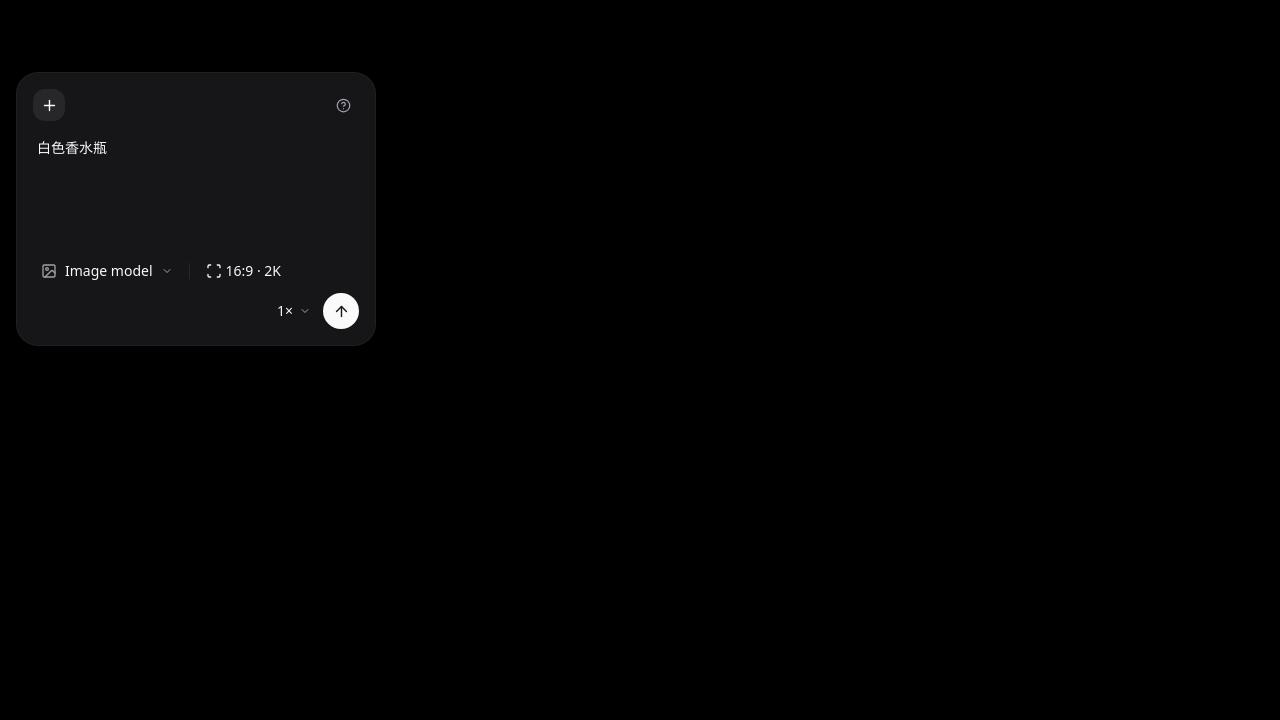
edits image specs in place, keeps option order stable, and restores focus without generating
Click the button named "生成规格" at (243, 271), box [198,253,289,289]
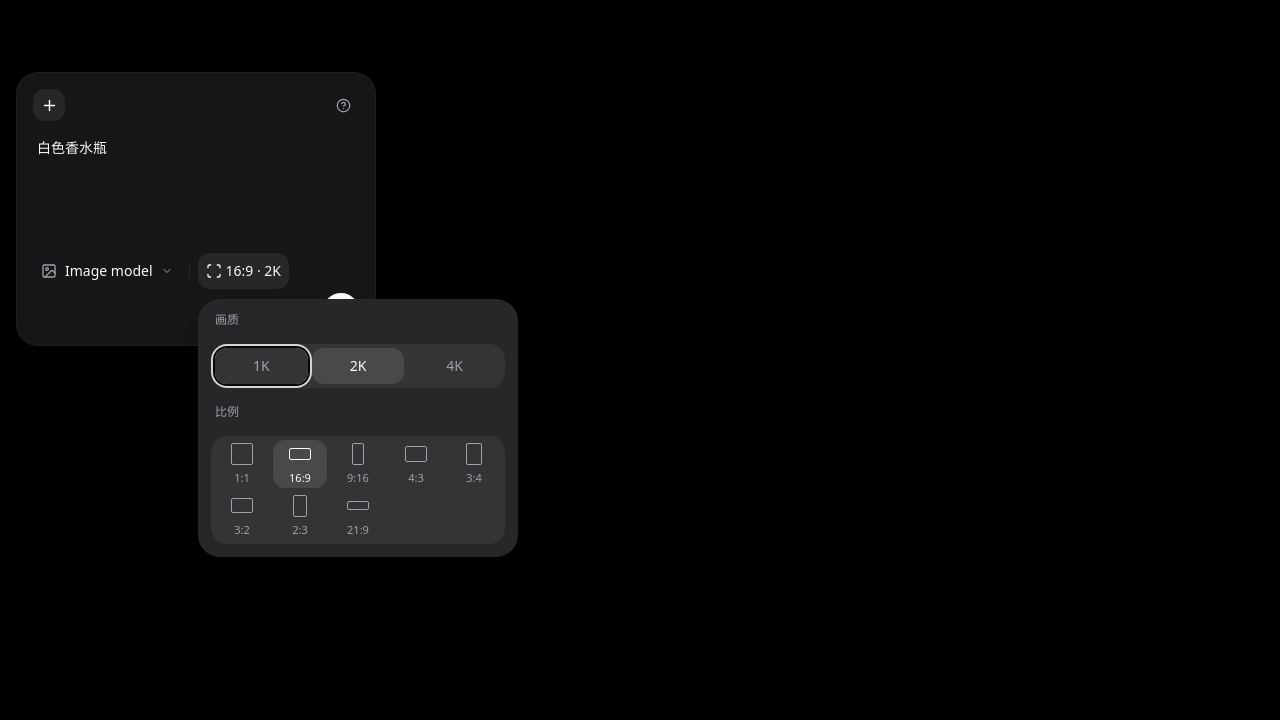
Click the button named "比例 9:16" at (358, 464), box [331,440,385,488]
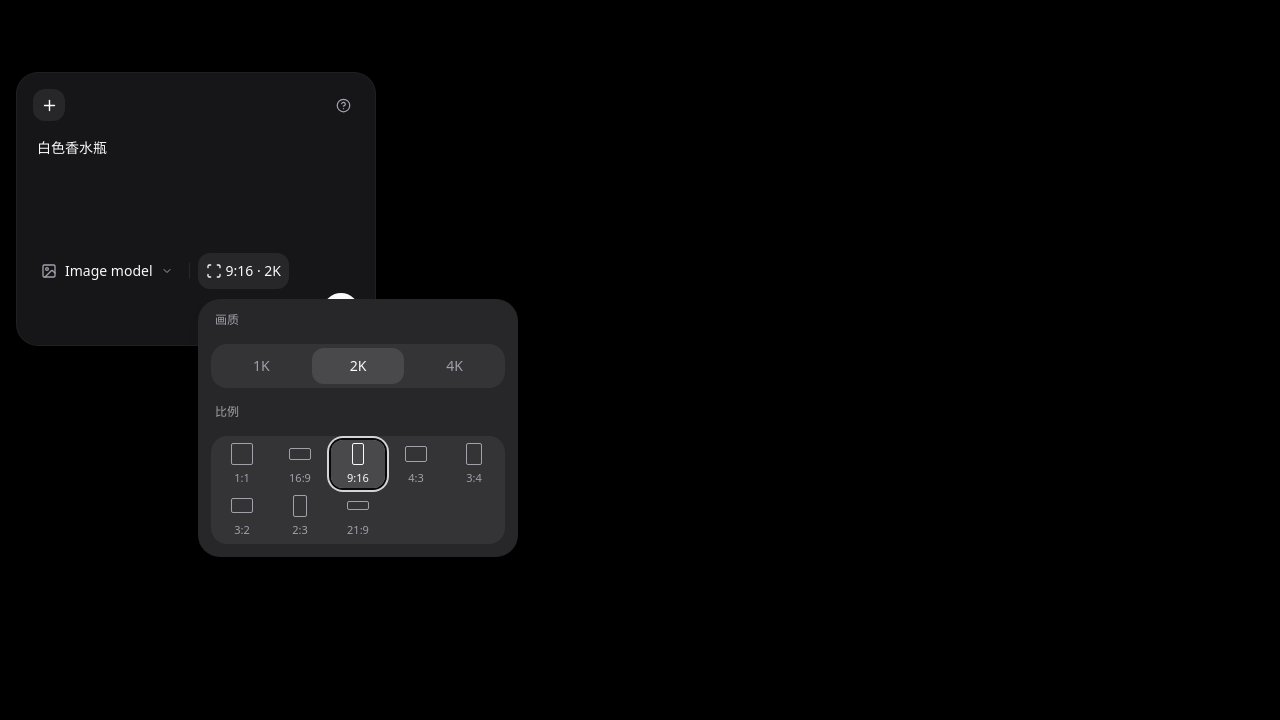
Click the button named "画质 4K" at (455, 366), box [408,348,501,384]
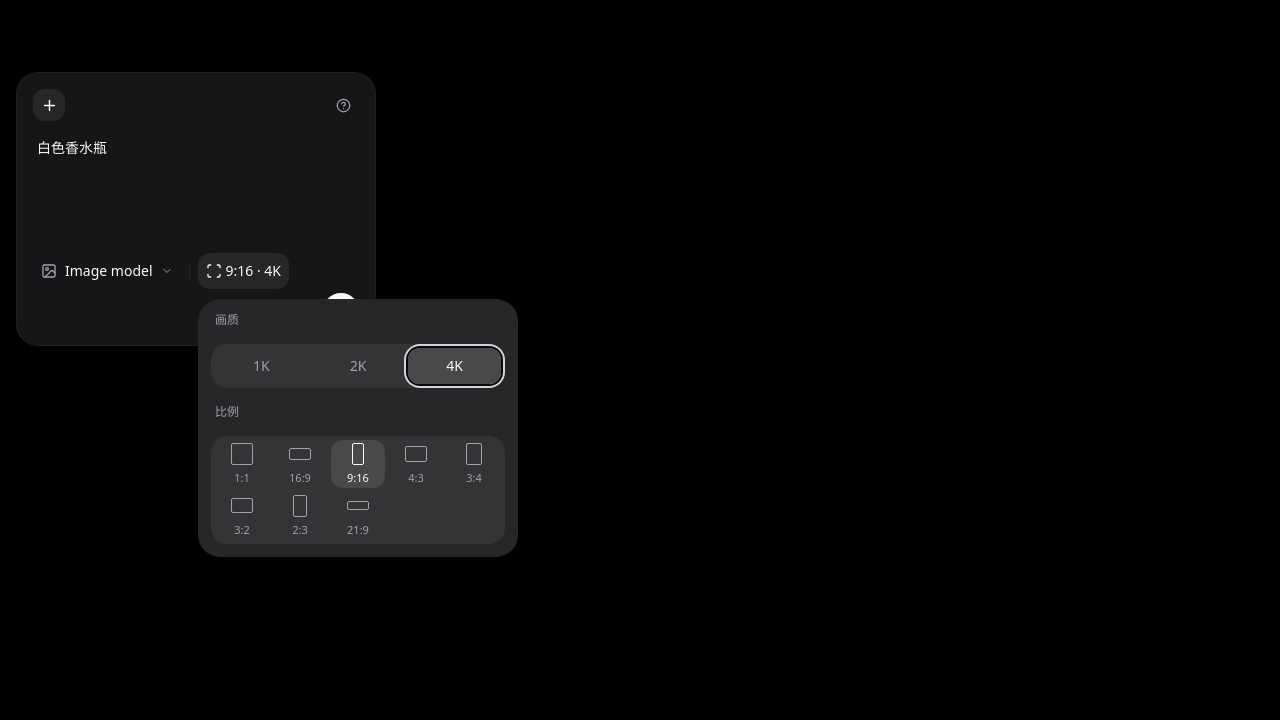
Check: the button named "生成规格" reads "9:16 · 4K", box [198,253,289,289]
Press Escape
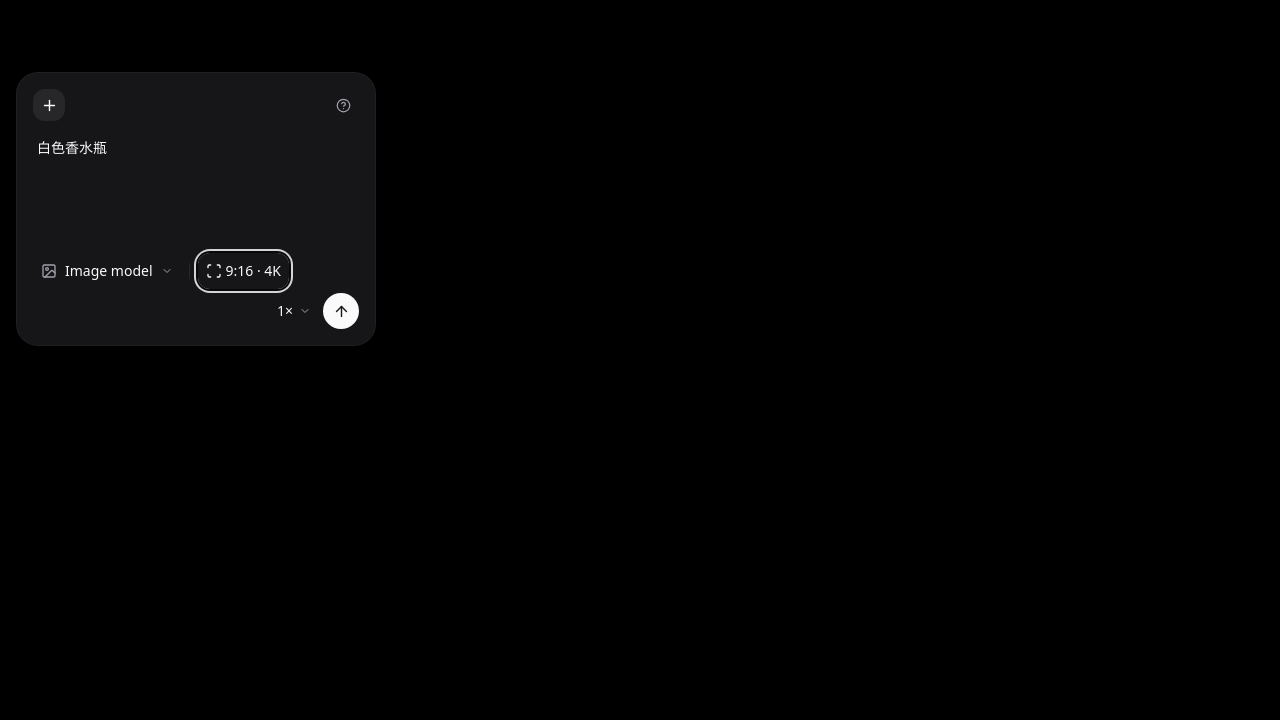
Click the button named "生成数量" at (294, 311), box [269,293,319,329]
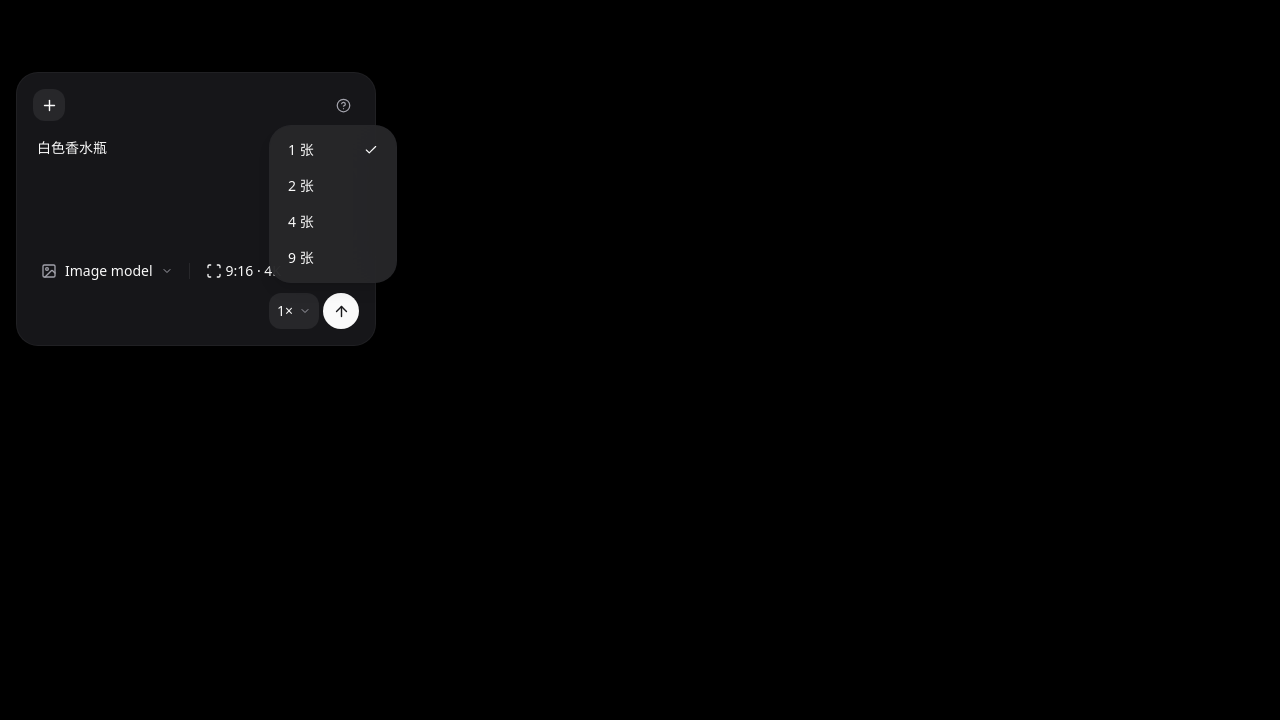
Click the menu item "4 张" at (301, 222), box [288,212,314,231]
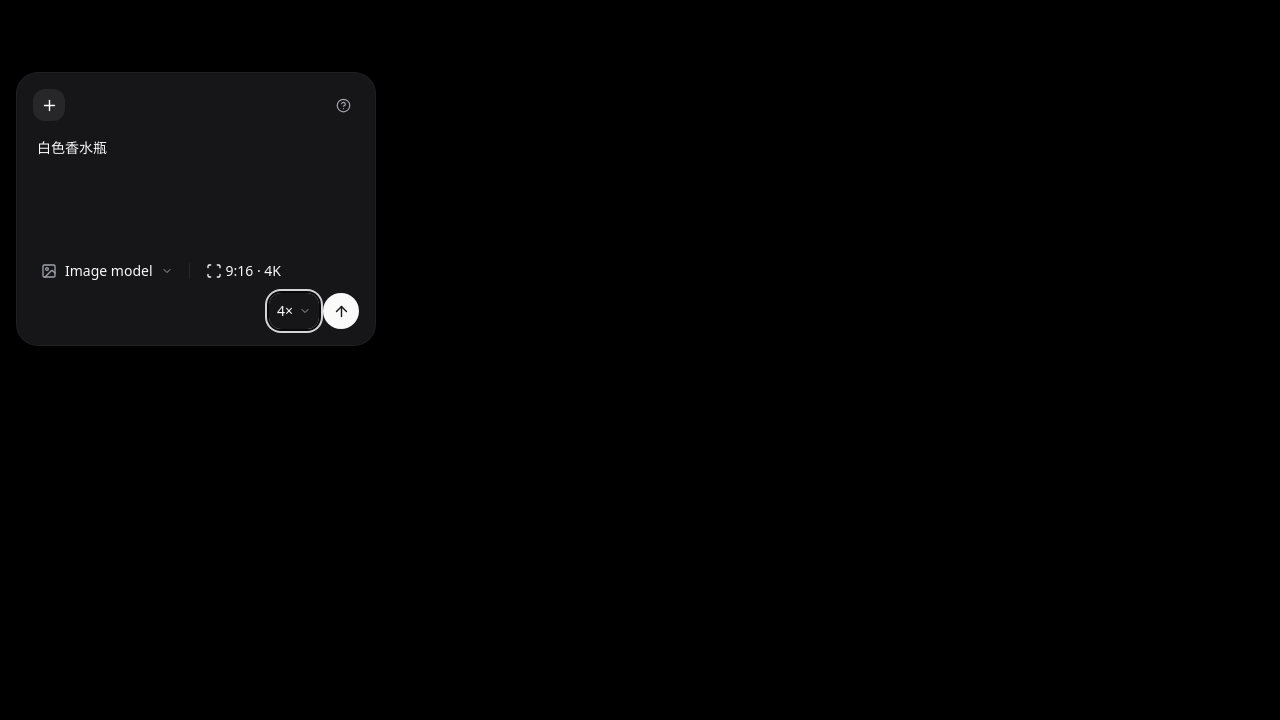
Check: the button named "生成数量" reads "4×", box [269,293,319,329]
